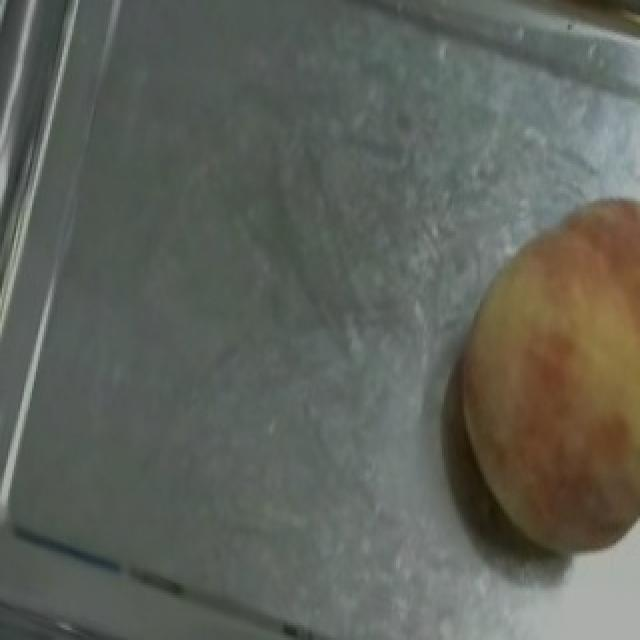Fruit: (418, 168, 640, 474)
